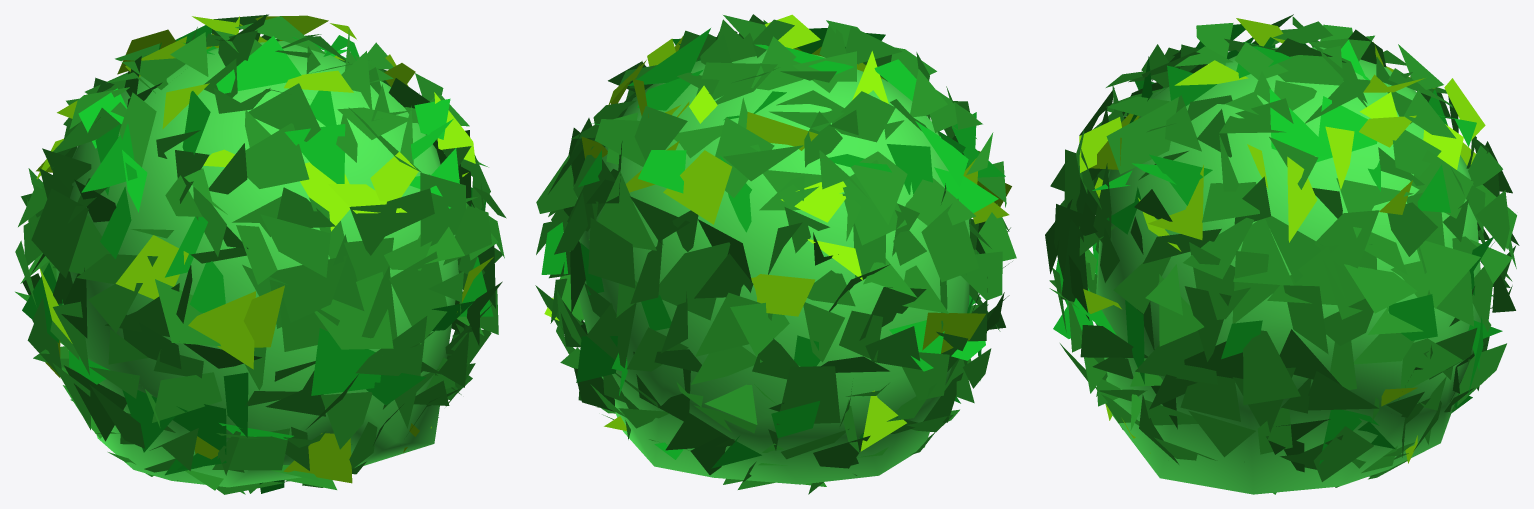
Rendered from Small_bush.fbx.
The picture shows the model from 3 angles, left to right: view 1: azimuth 30°, elevation 25°; view 2: azimuth 150°, elevation 25°; view 3: azimuth 270°, elevation 25°; orthographic projection.
Visible parts, largest first — view 1: Cube.001; view 2: Cube.001; view 3: Cube.001.
Boxes of the visible parts, bbox=[...] form: Cube.001: bbox=[15, 14, 506, 494]; Cube.001: bbox=[535, 14, 1016, 494]; Cube.001: bbox=[1045, 14, 1519, 494].
Size of the model in its own units: 191 by 193 by 191.
